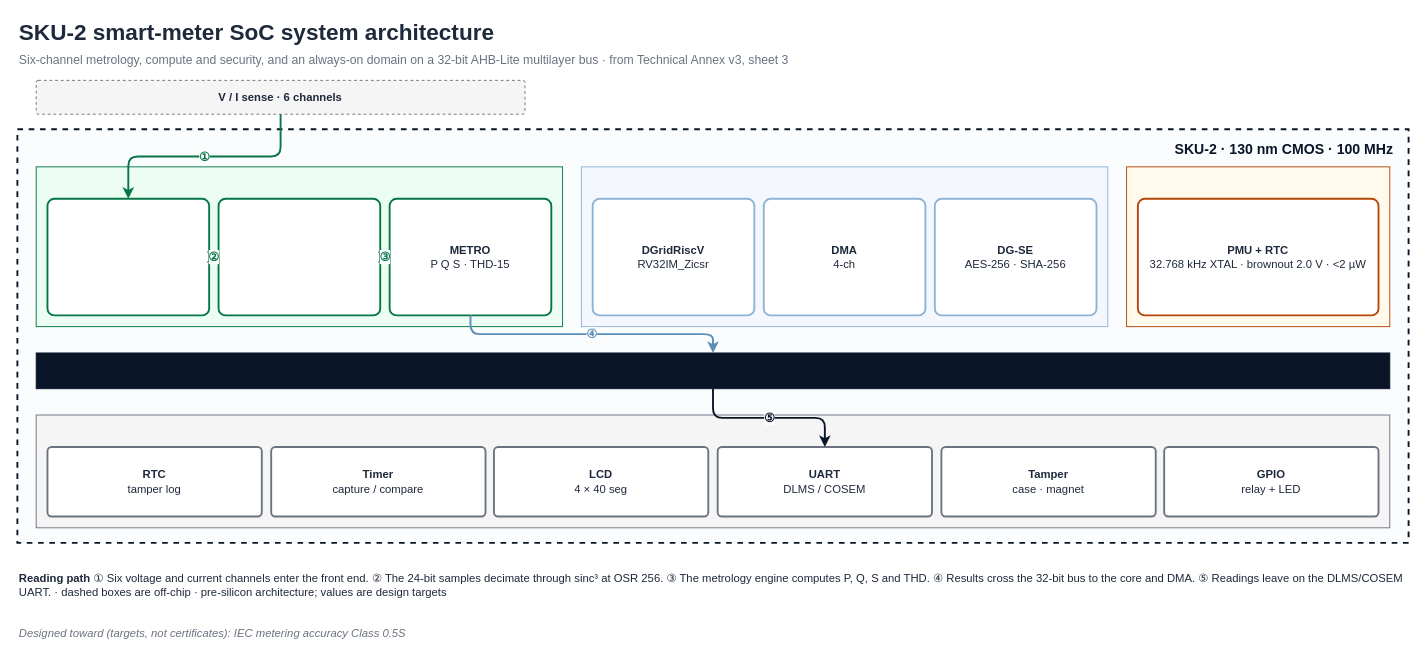
Some shapes in this 1425 by 660 pixel diagram are drawn without their labels. Here are the shapes that lost their labels. From the top down, the box of each, then its label:
(46, 197, 210, 316): DG-AFE6 6-ch 24-bit delta-sigma
(35, 166, 563, 327): Metrology
(217, 197, 381, 316): DECIM sinc³ · OSR 256
(580, 166, 1108, 327): Compute + security
(1126, 166, 1390, 327): Always-on
(35, 352, 1390, 389): AHB-Lite multilayer · 32-bit · 4 masters / 9 slaves · 100 MHz
(35, 414, 1390, 528): Peripherals
